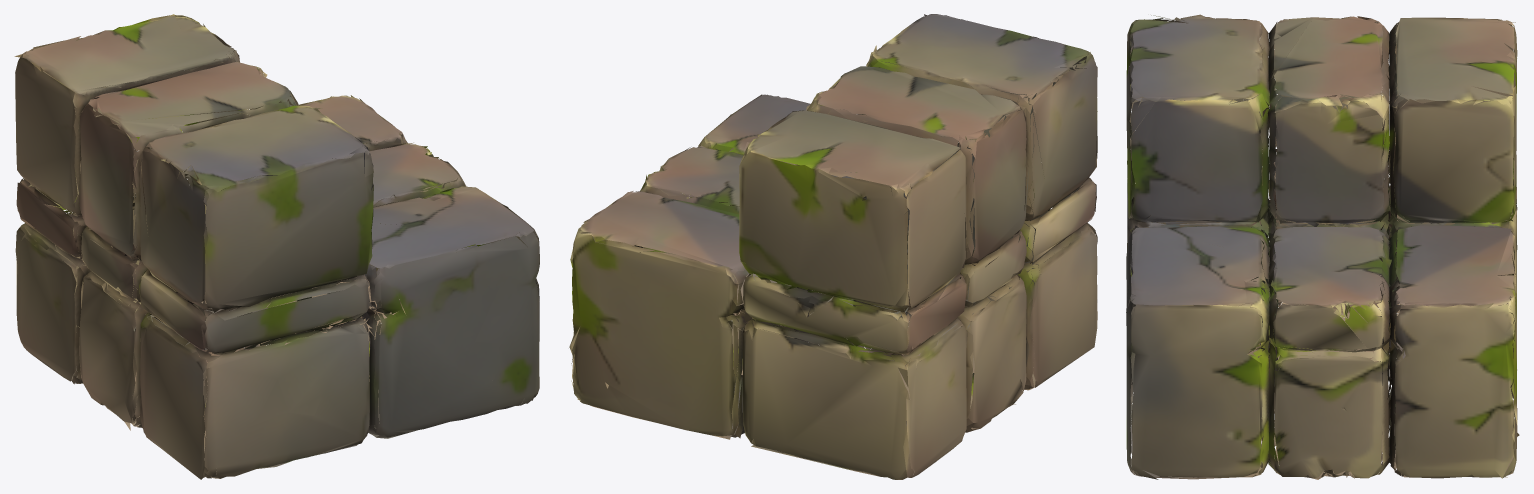
File: Lab_WallCorner.glb
3 renders of one model, left to right at view 1: azimuth 30°, elevation 25°; view 2: azimuth 150°, elevation 25°; view 3: azimuth 270°, elevation 25°, orthographic.
Visible parts, largest first — view 1: Lab_WallCorner; view 2: Lab_WallCorner; view 3: Lab_WallCorner.
Part boxes in pixels (box(x1,y1,x2,y2)): Lab_WallCorner: box(14, 14, 539, 479); Lab_WallCorner: box(569, 14, 1097, 479); Lab_WallCorner: box(1126, 14, 1519, 479).
Size of the model in its own units: 3.36 by 2.83 by 3.32.
1 material, 1 textured.
